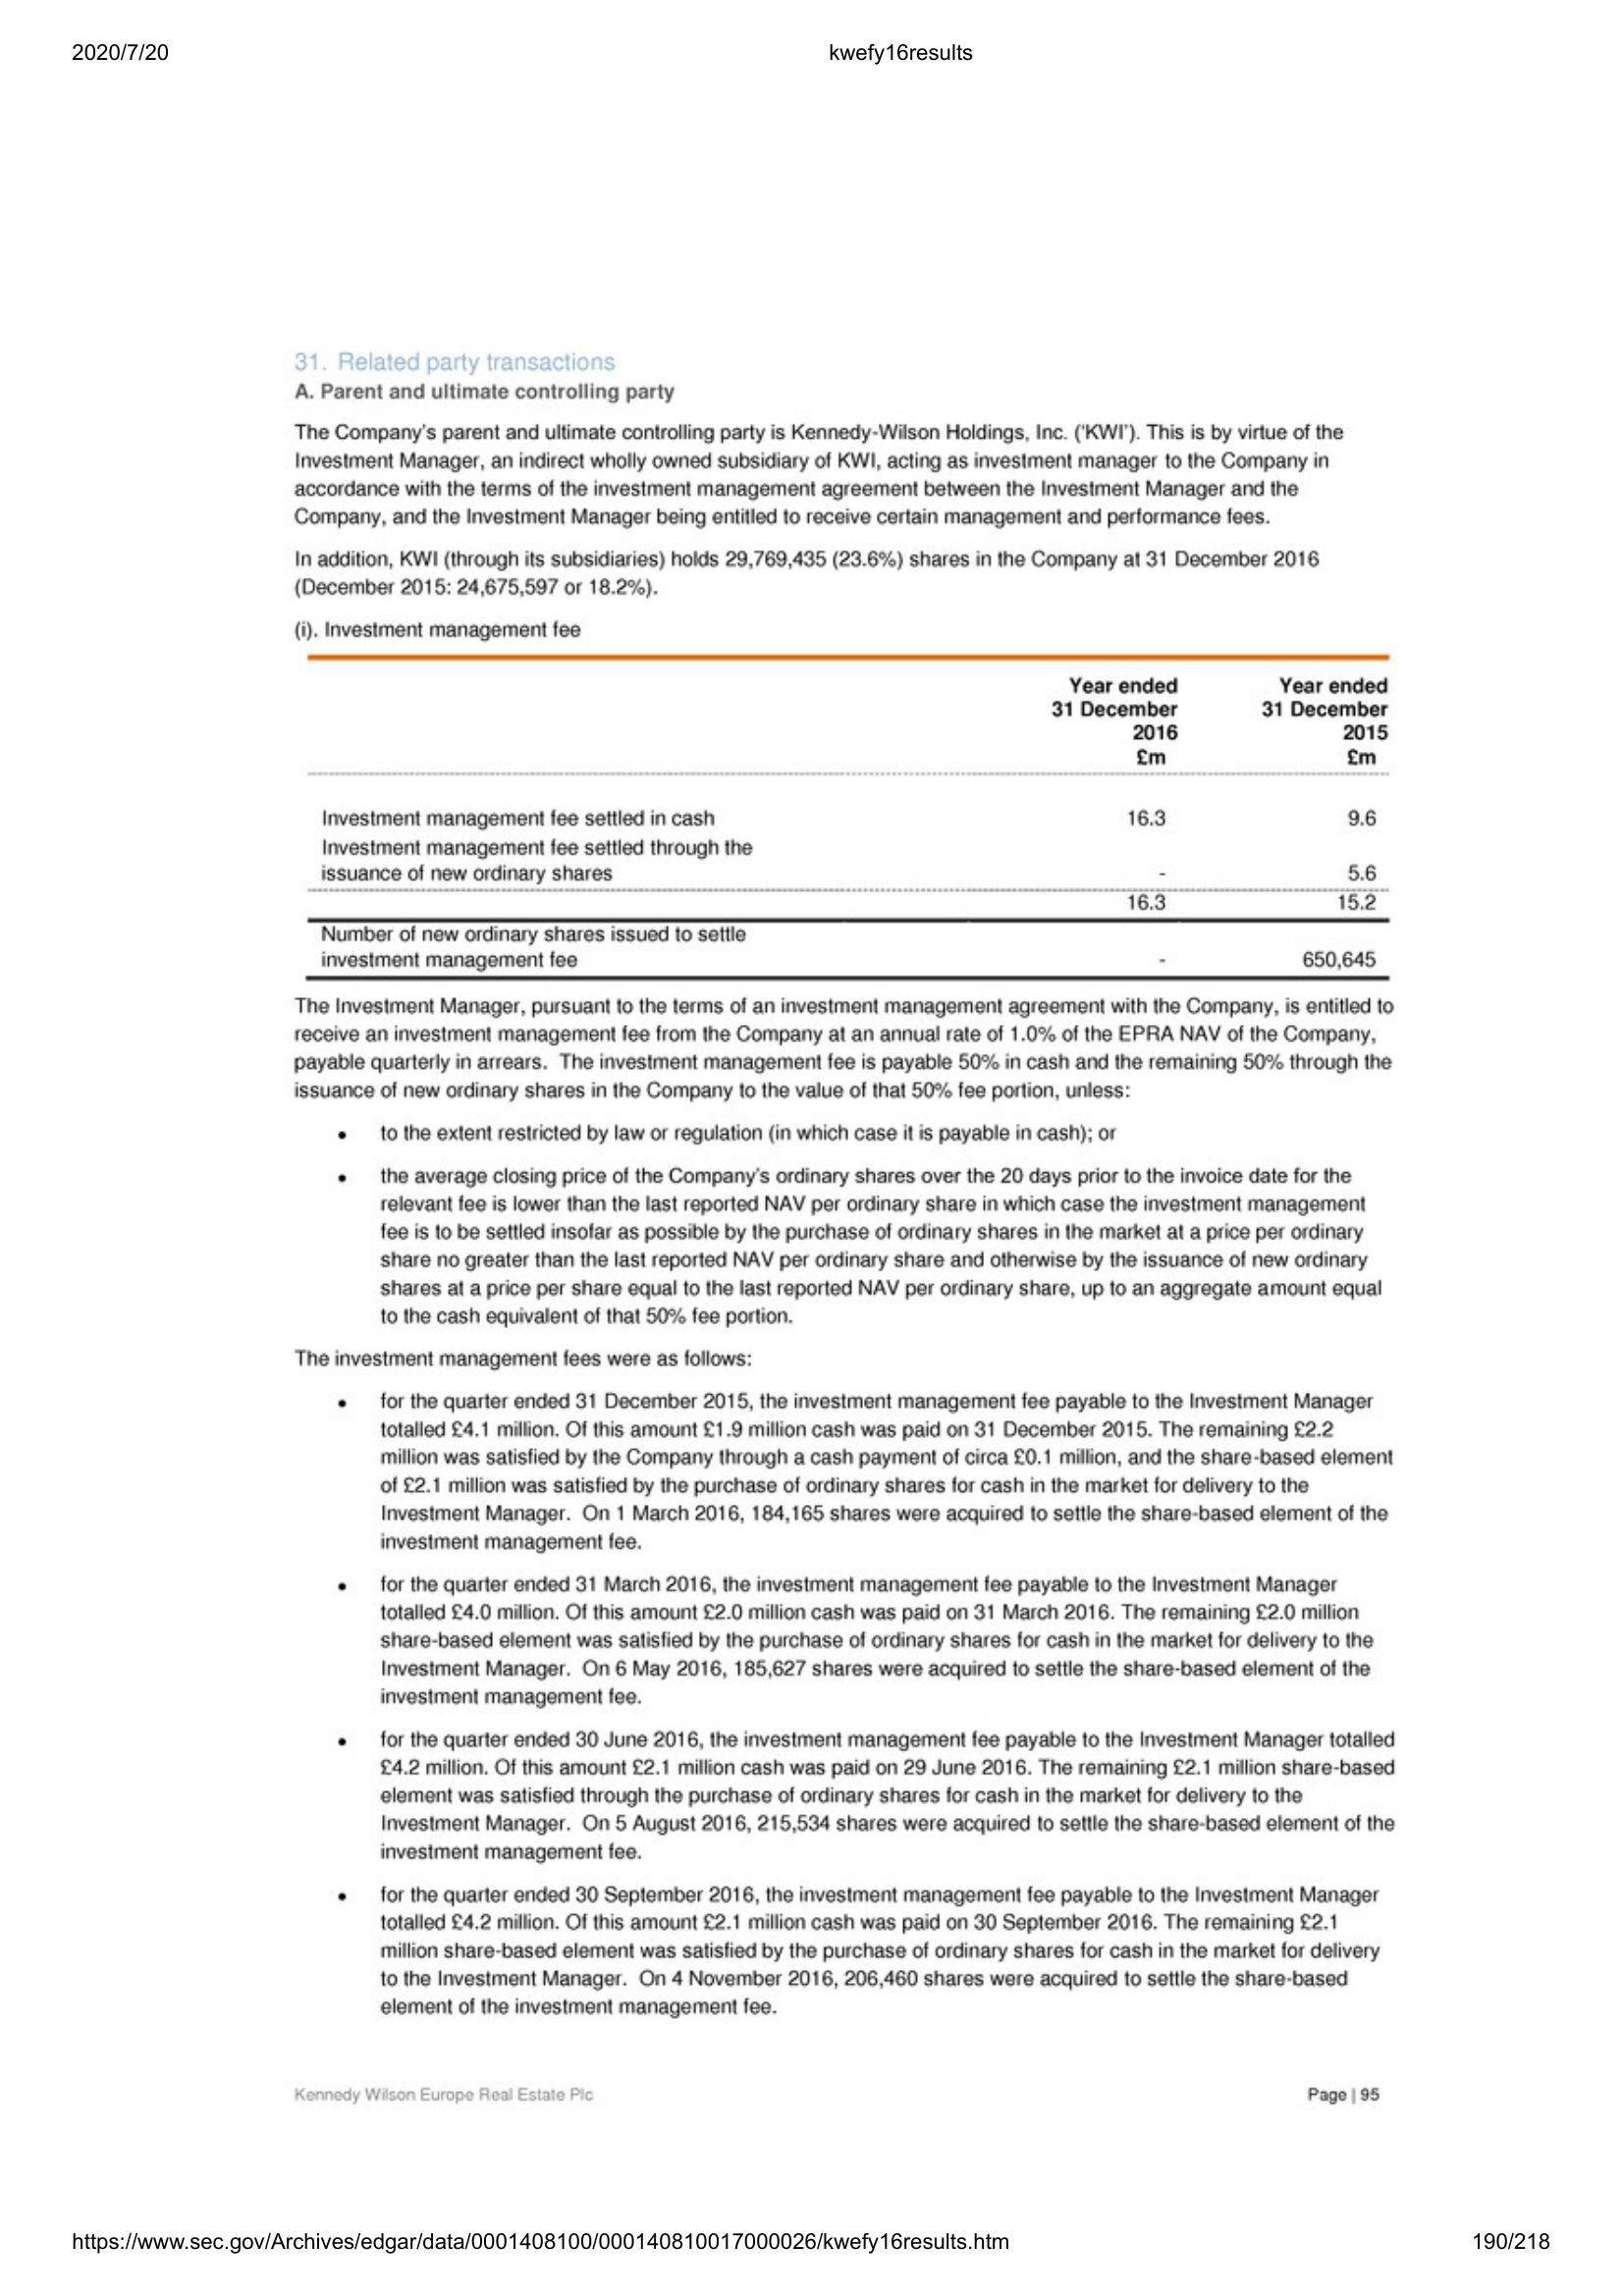table: (295, 648, 1395, 988)
